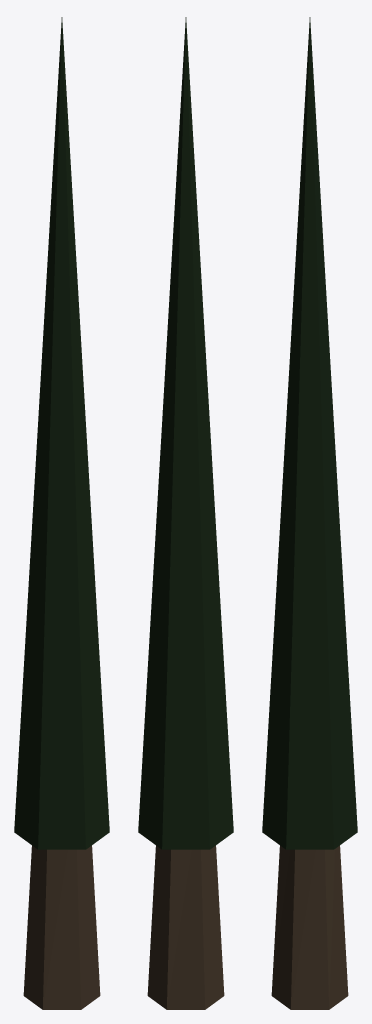
Rendered from 1986-Low-poly-plant-models-cypress.glb.
The picture shows the model from 3 angles, left to right: view 1: azimuth 90°, elevation 25°; view 2: azimuth 210°, elevation 25°; view 3: azimuth 270°, elevation 25°; orthographic projection.
Visible parts, largest first — view 1: Low-poly plant models/cypress; view 2: Low-poly plant models/cypress; view 3: Low-poly plant models/cypress.
Boxes of the visible parts, x1,y1,x2,y2 form: Low-poly plant models/cypress: [14, 17, 109, 1009]; Low-poly plant models/cypress: [138, 17, 233, 1009]; Low-poly plant models/cypress: [262, 17, 357, 1009].
Bounding box in the file's own units: 0.0765 × 1 × 0.0883.
